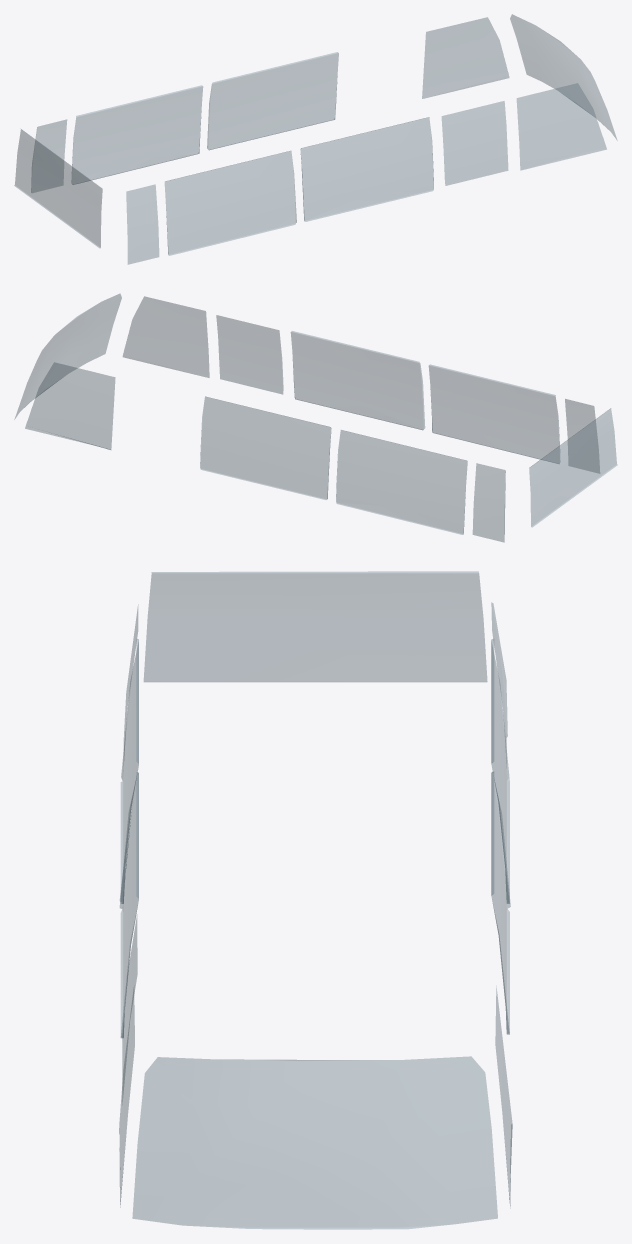
3 views of the same model, one above another, from view 1: azimuth 30°, elevation 25°; view 2: azimuth 150°, elevation 25°; view 3: azimuth 270°, elevation 25° (orthographic). The views are drawn at different scales.
Parts seen in each view (by area): view 1: SM_MitsubishiFusoRosa_Glass_Ext2; view 2: SM_MitsubishiFusoRosa_Glass_Ext2; view 3: SM_MitsubishiFusoRosa_Glass_Ext2.
Boxes of the visible parts, x1=… form: SM_MitsubishiFusoRosa_Glass_Ext2: x1=14, y1=14, x2=617, y2=264; SM_MitsubishiFusoRosa_Glass_Ext2: x1=14, y1=294, x2=617, y2=542; SM_MitsubishiFusoRosa_Glass_Ext2: x1=119, y1=571, x2=512, y2=1229.
Bounding box in the file's own units: 7.77 × 1.08 × 2.52.
